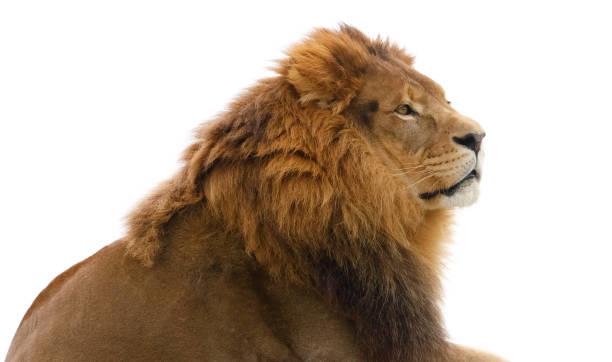lion: (141, 13, 512, 326)
